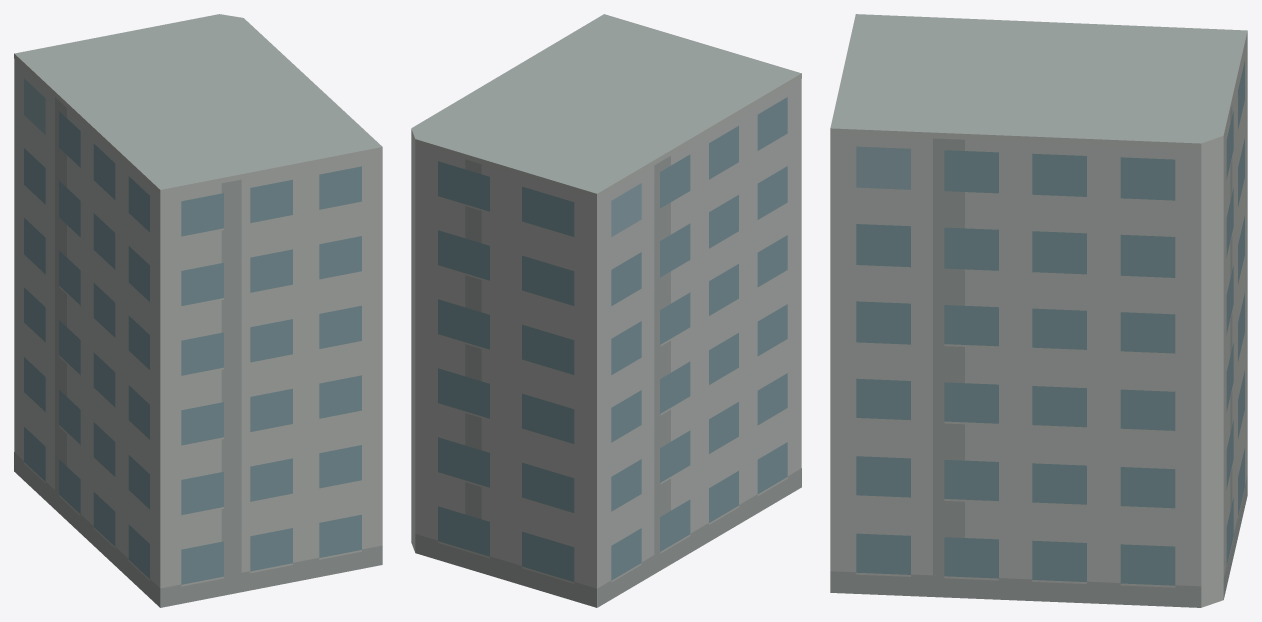
The model's file is survey-upis-32564942.glb.
3 renders of one model, left to right at view 1: azimuth 30°, elevation 25°; view 2: azimuth 150°, elevation 25°; view 3: azimuth 270°, elevation 25°, orthographic. The views are drawn at different scales.
Parts seen in each view (by area): view 1: survey-upis-32564942.tmp; view 2: survey-upis-32564942.tmp; view 3: survey-upis-32564942.tmp.
Boxes of the visible parts, x1,y1,x2,y2 form: survey-upis-32564942.tmp: (14, 14, 382, 607); survey-upis-32564942.tmp: (411, 14, 801, 607); survey-upis-32564942.tmp: (830, 14, 1247, 607).
Size of the model in its own units: 11.55 by 19.3 by 15.73.
